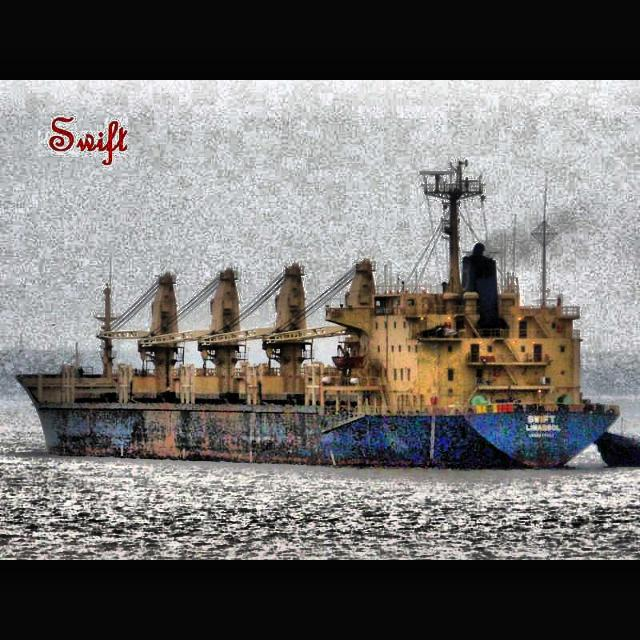bulk_carrier: (15, 232, 622, 472)
